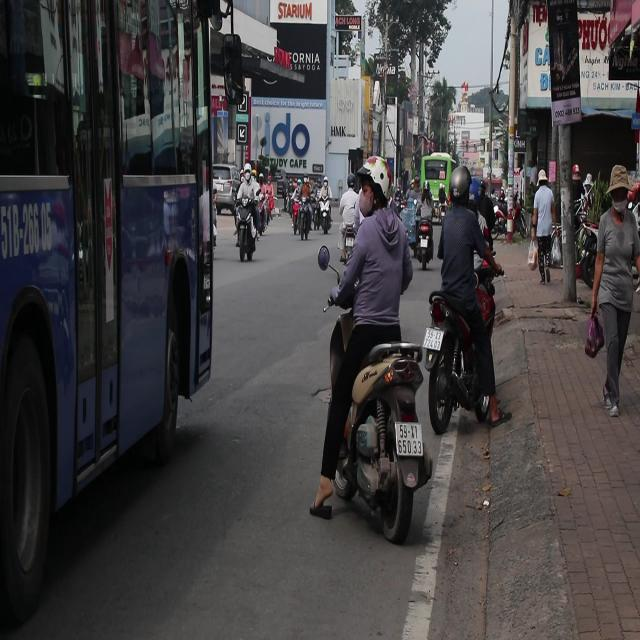bus: (1, 5, 209, 640), (421, 153, 457, 202)
car: (210, 166, 242, 216)
motorbike: (325, 324, 421, 546), (418, 300, 517, 426), (336, 221, 362, 274), (238, 206, 262, 262), (411, 217, 435, 270), (316, 203, 334, 239), (300, 202, 310, 244), (287, 208, 299, 240), (268, 192, 275, 218)
